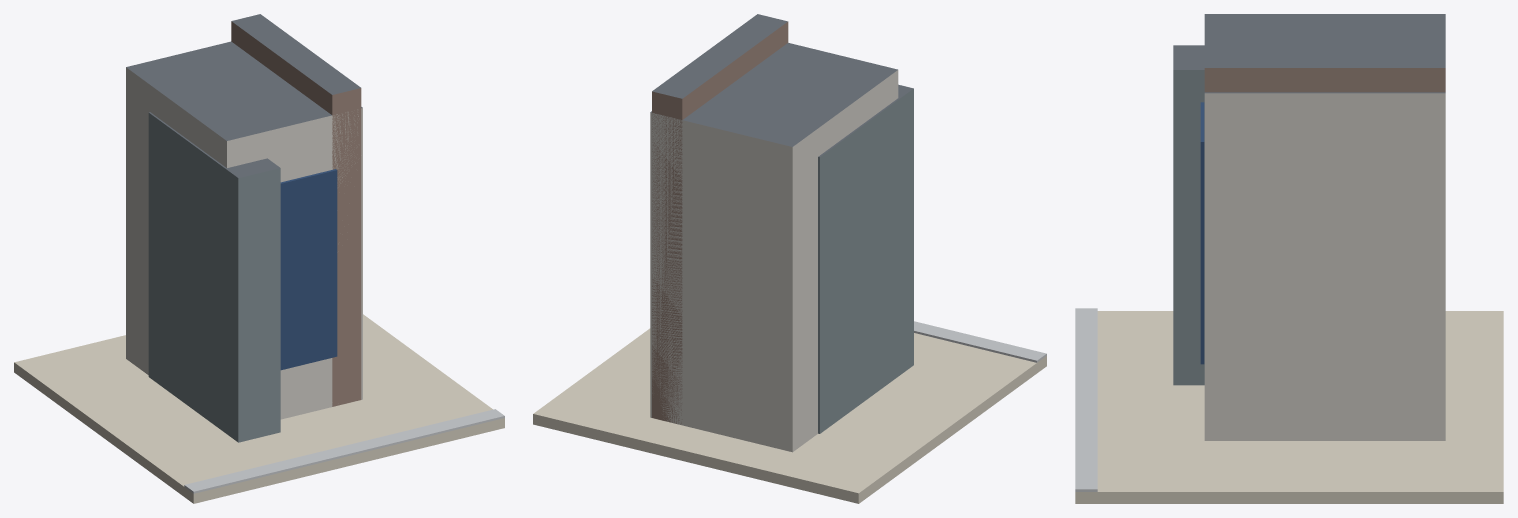
3 renders of one model, left to right at view 1: azimuth 30°, elevation 25°; view 2: azimuth 150°, elevation 25°; view 3: azimuth 270°, elevation 25°, orthographic. The views are drawn at different scales.
Parts seen in each view (by area): view 1: b03_v2_lod2; view 2: b03_v2_lod2; view 3: b03_v2_lod2.
Boxes of the visible parts, x1,y1,x2,y2 form: b03_v2_lod2: [14, 14, 504, 503]; b03_v2_lod2: [533, 14, 1046, 503]; b03_v2_lod2: [1075, 14, 1503, 503].
Bounding box in the file's own units: 0.96 × 0.95 × 0.96.
